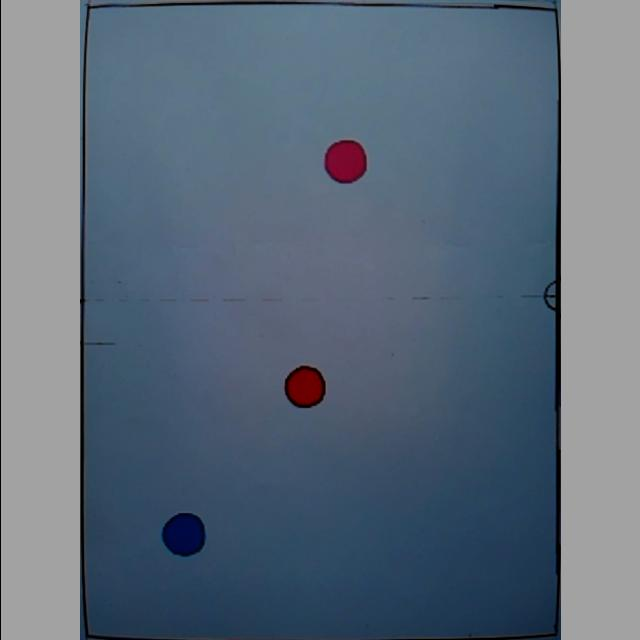blueCircle: (160, 511, 208, 557)
pinkCircle: (322, 138, 370, 185)
redCircle: (283, 366, 329, 408)
